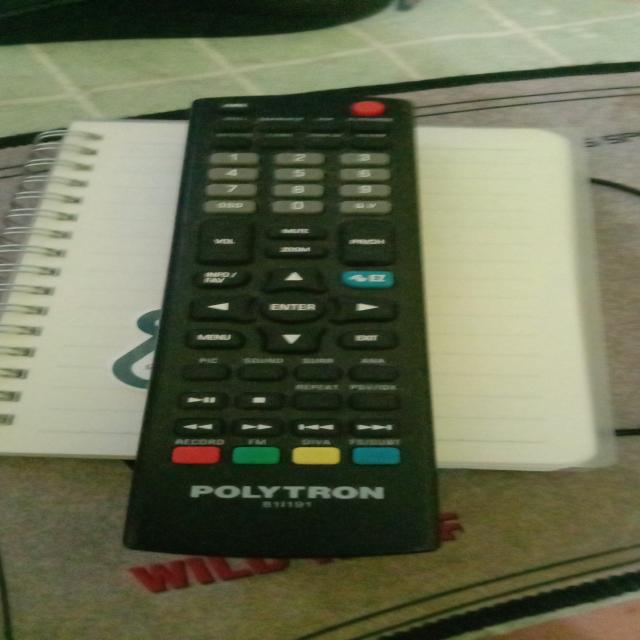remote: (118, 88, 446, 563)
